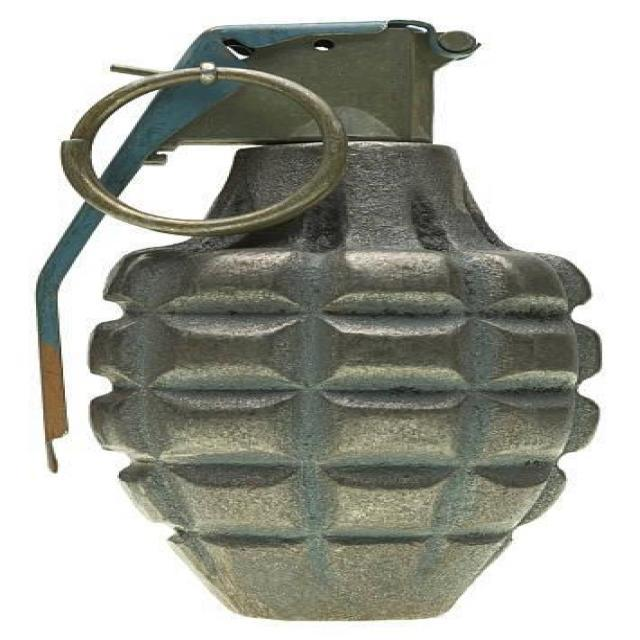Grenade: (30, 18, 602, 622)
